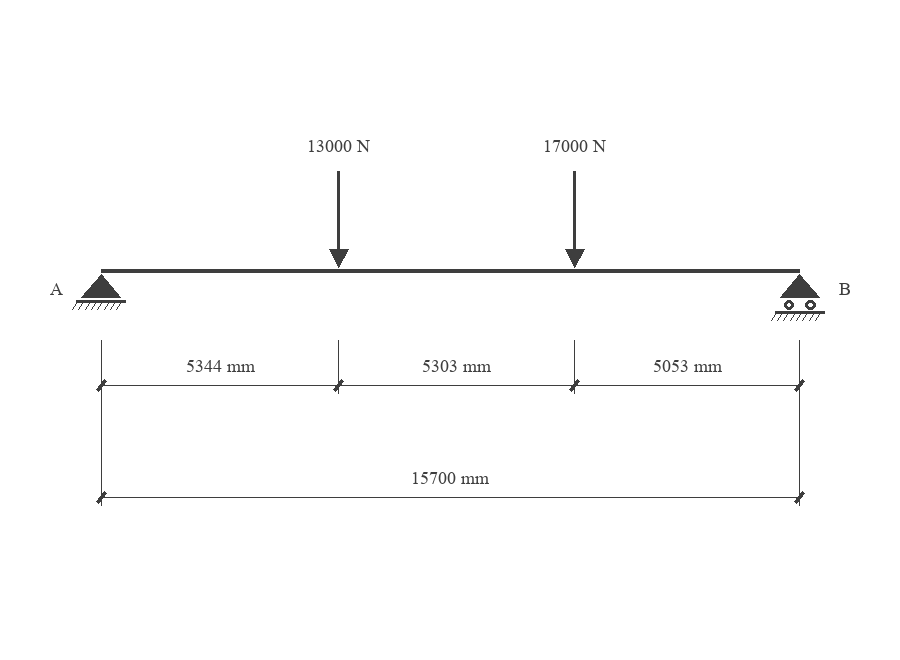pin_support: (72, 274, 126, 310)
point_load: (329, 171, 349, 268), (565, 171, 585, 268)
roller_support: (771, 274, 825, 321)
